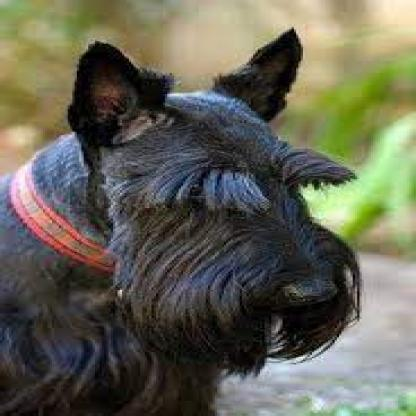Scottish Terrier: (0, 20, 369, 408)
